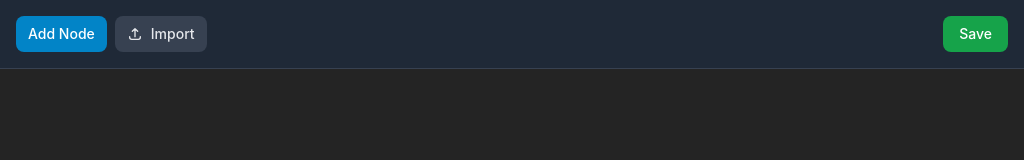
WorkflowCanvas › Validation › should validate workflow before saving
This screenshot has width=1024, height=160.
Click the button "Save".
click(976, 34)  # box [943,16,1008,52]
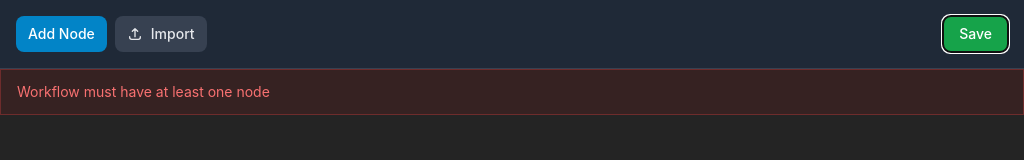
Expected: the text "Workflow must have at least one node" is shown, [0,69,1023,115]
